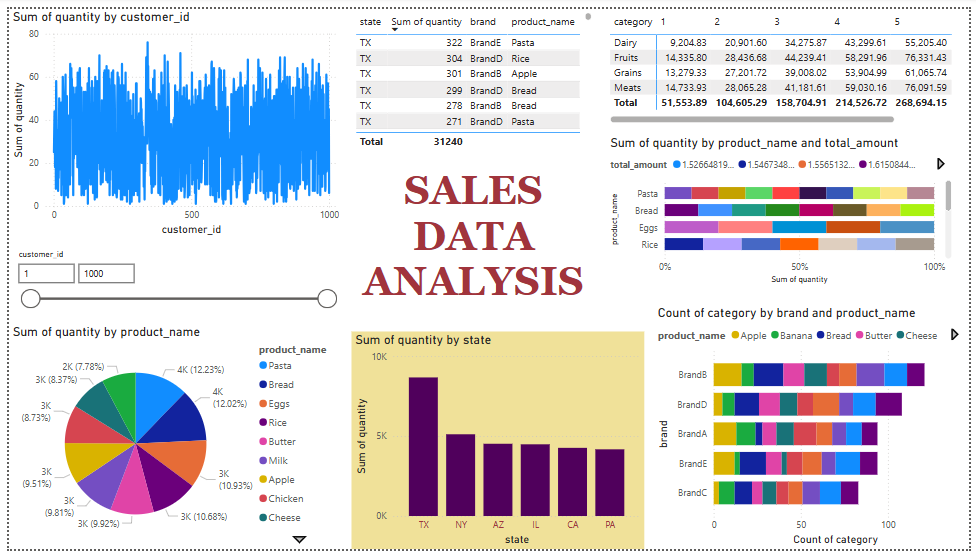

What the dashboard file says about the page in this screenshot:
{"tool":"powerbi","page":{"name":"Page 1","canvas":[1280,720],"ordinal":0},"visuals":[{"type":"lineChart","fields":{"Category":["purchase_history_dataset.customer_id"],"Y":["Sum(purchase_history_dataset.quantity)"]},"box":[0,0,445,306.7],"z":0},{"type":"pieChart","fields":{"Category":["products_dataset.product_name"],"Y":["Sum(purchase_history_dataset.quantity)"]},"box":[0,420,445,300],"z":1},{"type":"lineStackedColumnComboChart","fields":{"Category":["customer_profile_dataset.state"],"Y":["Sum(purchase_history_dataset.quantity)"]},"box":[456.7,430,390,290],"z":2},{"type":"barChart","fields":{"Category":["products_dataset.brand"],"Y":["CountNonNull(products_dataset.category)"],"Series":["products_dataset.product_name"]},"box":[860,395,420,325],"z":3},{"type":"slicer","fields":{"Values":["purchase_history_dataset.customer_id"]},"box":[0,315,445,90],"z":5},{"type":"tableEx","fields":{"Values":["customer_profile_dataset.state","Sum(purchase_history_dataset.quantity)","products_dataset.brand","products_dataset.product_name"]},"box":[456.7,0,325,190],"z":6},{"type":"pivotTable","fields":{"Rows":["products_dataset.category"],"Columns":["purchase_history_dataset.quantity"],"Values":["Sum(purchase_history_dataset.total_amount)"]},"box":[796.7,0,465,156.7],"z":7},{"type":"hundredPercentStackedBarChart","fields":{"Category":["products_dataset.product_name"],"Y":["Sum(purchase_history_dataset.quantity)"],"Series":["purchase_history_dataset.total_amount"]},"box":[796.7,168.3,465,203.3],"z":8},{"type":"textbox","box":[456.7,206.7,325,215],"z":9}]}

Visuals, with their boxes in screenshot pixels (x1, y1, x2, y2), scaled from the page's 1280x720 canvas onto the 976x560 screenshot:
lineChart - purchase_history_dataset.customer_id x Sum(purchase_history_dataset.quantity): crop(0, 0, 339, 239)
pieChart - products_dataset.product_name x Sum(purchase_history_dataset.quantity): crop(0, 327, 339, 559)
lineStackedColumnComboChart - customer_profile_dataset.state x Sum(purchase_history_dataset.quantity): crop(348, 334, 646, 559)
barChart - products_dataset.brand x CountNonNull(products_dataset.category): crop(656, 307, 975, 559)
slicer - purchase_history_dataset.customer_id: crop(0, 245, 339, 315)
tableEx - customer_profile_dataset.state x Sum(purchase_history_dataset.quantity): crop(348, 0, 596, 148)
pivotTable - products_dataset.category x purchase_history_dataset.quantity: crop(607, 0, 962, 122)
hundredPercentStackedBarChart - products_dataset.product_name x Sum(purchase_history_dataset.quantity): crop(607, 131, 962, 289)
textbox: crop(348, 161, 596, 328)
